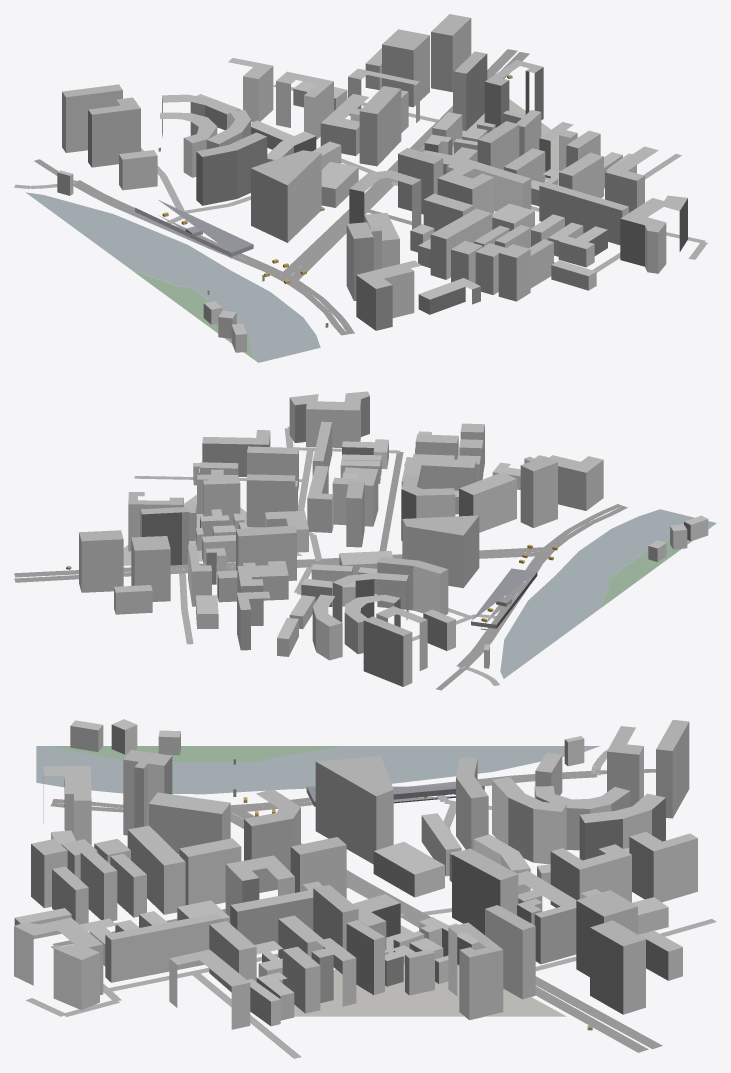
The picture shows the model from 3 angles, top to bottom: view 1: azimuth 30°, elevation 25°; view 2: azimuth 150°, elevation 25°; view 3: azimuth 270°, elevation 25°; orthographic projection. The views are drawn at different scales.
Size of the model in its own units: 585 by 68.65 by 548.
